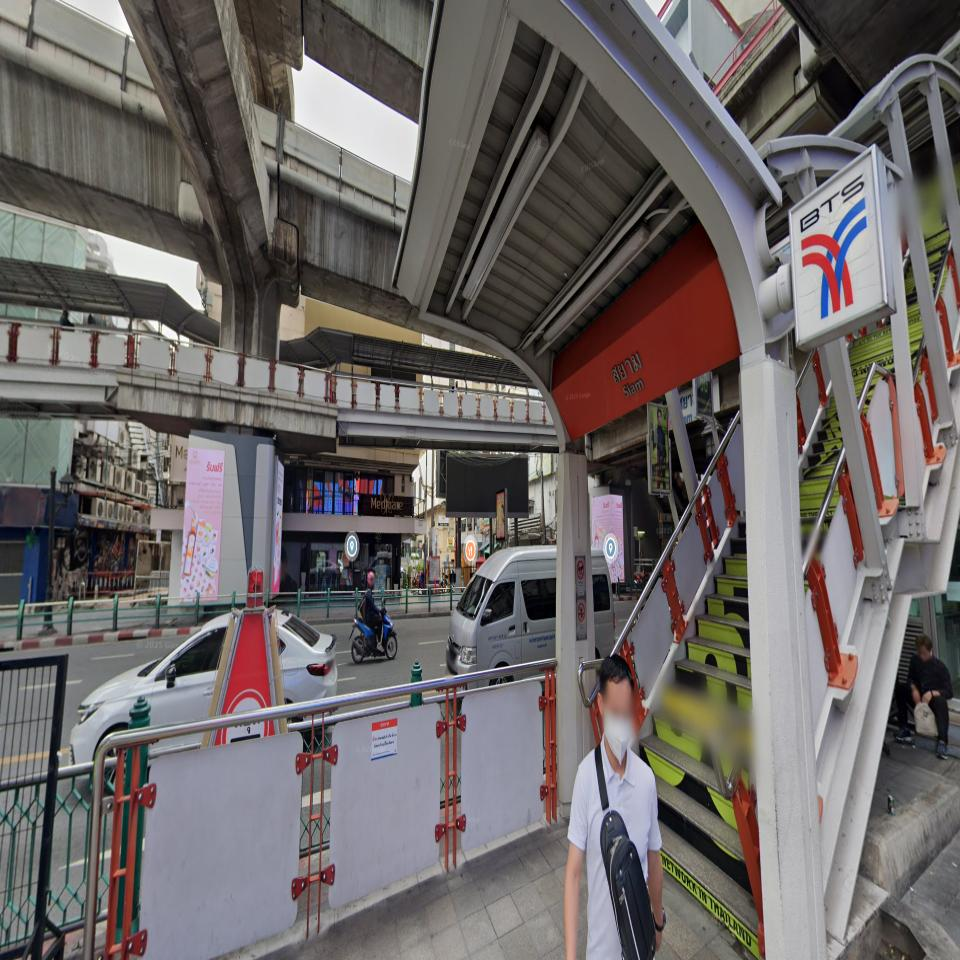signage: (551, 145, 887, 440), (551, 255, 740, 440)
